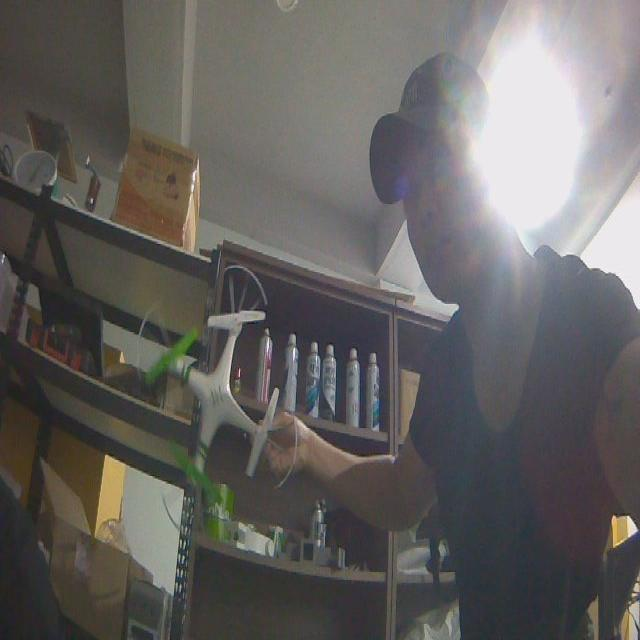drone: (135, 260, 299, 546)
